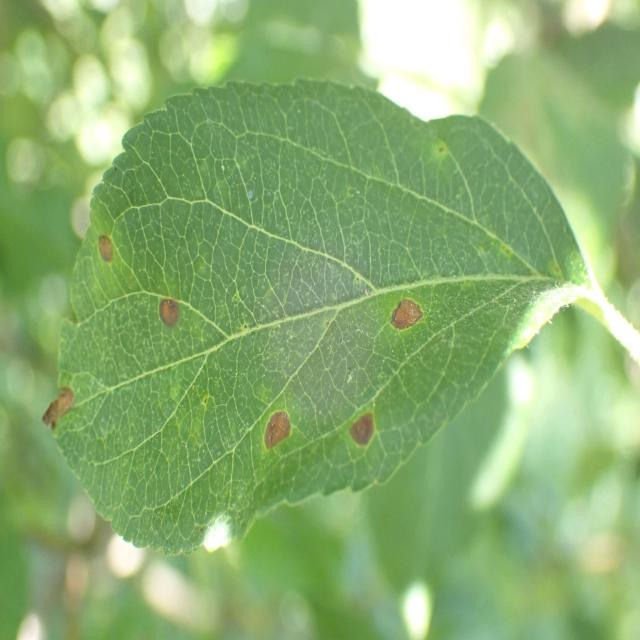Black Rot: (34, 375, 92, 442), (256, 384, 302, 464), (343, 390, 388, 470), (379, 283, 428, 345), (151, 272, 190, 344), (94, 210, 123, 276)
